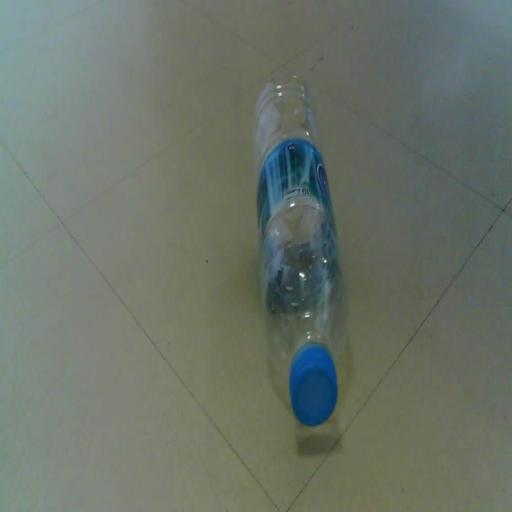bottle: (239, 52, 357, 436)
